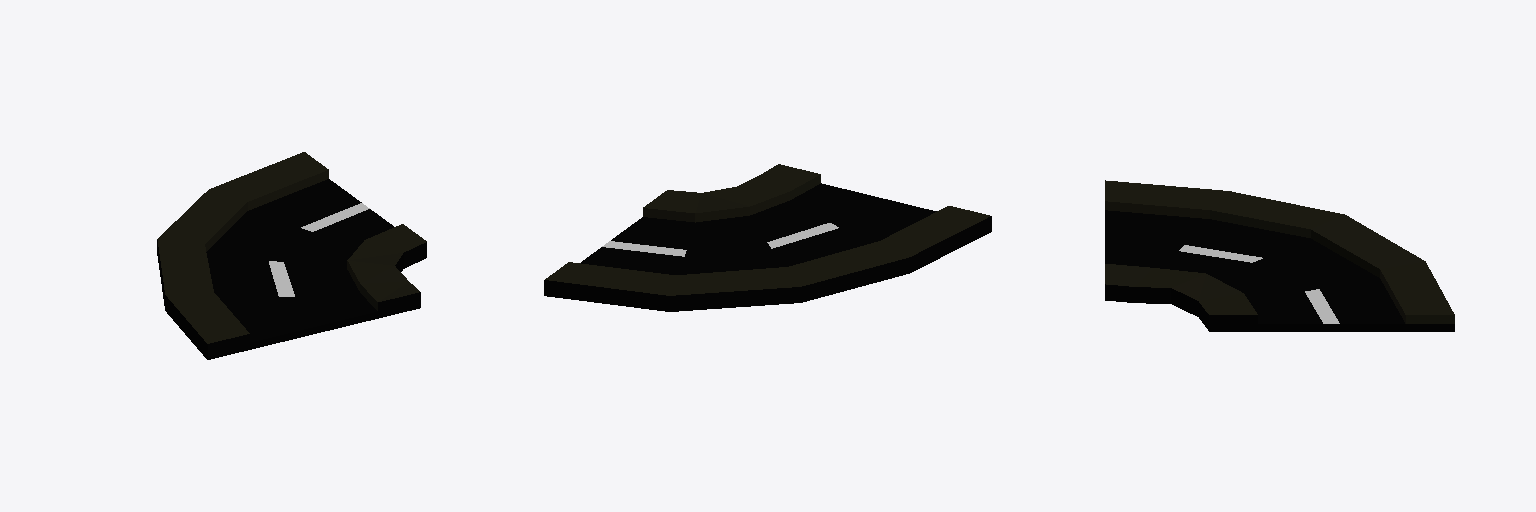
Rendered from RoadTurn.obj.
3 renders of one model, left to right at view 1: azimuth 30°, elevation 25°; view 2: azimuth 150°, elevation 25°; view 3: azimuth 270°, elevation 25°, orthographic.
Parts seen in each view (by area): view 1: Cube.001; view 2: Cube.001; view 3: Cube.001.
Part boxes in pixels (x1,y1,x2,y2): Cube.001: (157, 152, 426, 359); Cube.001: (544, 164, 991, 311); Cube.001: (1105, 180, 1454, 331).
Size of the model in its own units: 17.39 by 1.12 by 19.39.